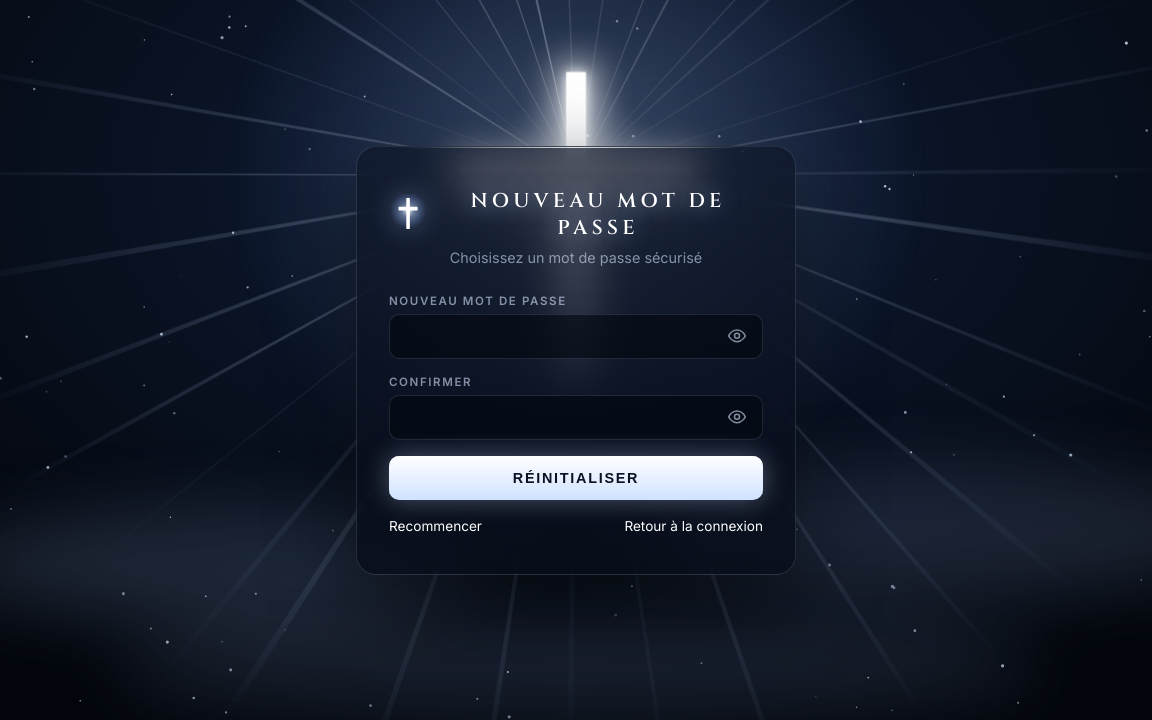
it: ResetPassword › affiche l’erreur du serveur (jeton expiré) et ne redirige pas
Type "NouveauMdp456" into the password field labelled "Nouveau mot de passe".
click(576, 336); type("NouveauMdp456")  # box x1=389 y1=314 x2=763 y2=358
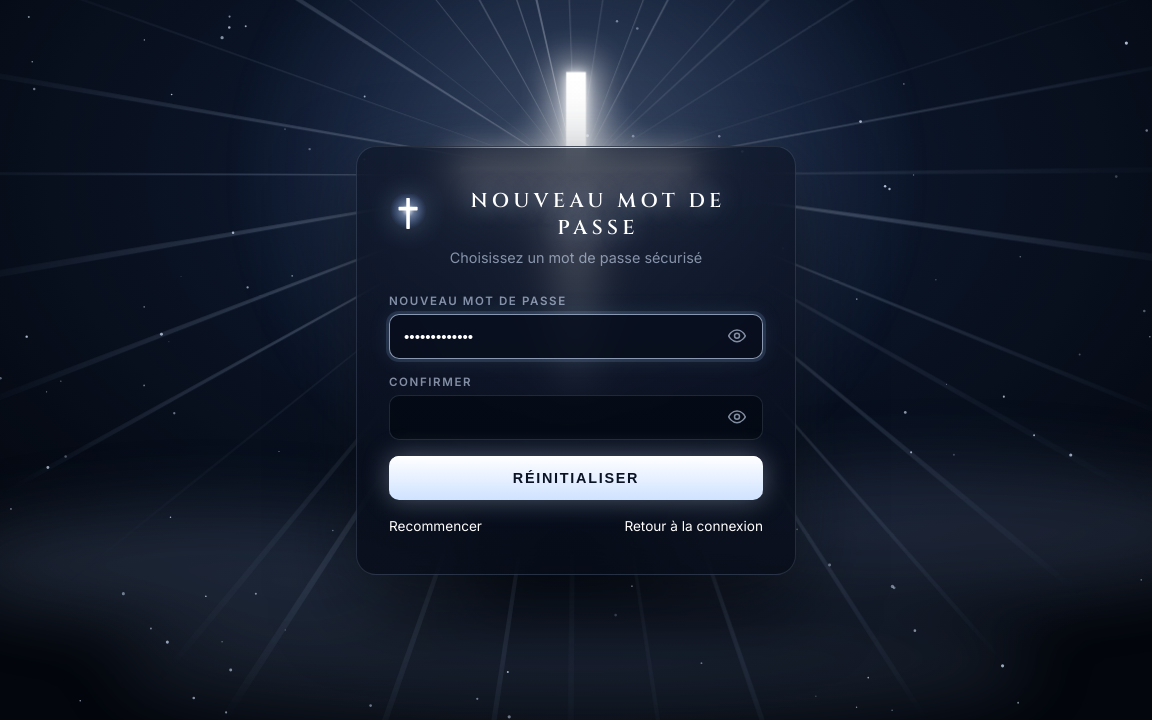
Type "NouveauMdp456" into the password field labelled "Confirmer".
click(576, 417); type("NouveauMdp456")  # box x1=389 y1=394 x2=763 y2=440
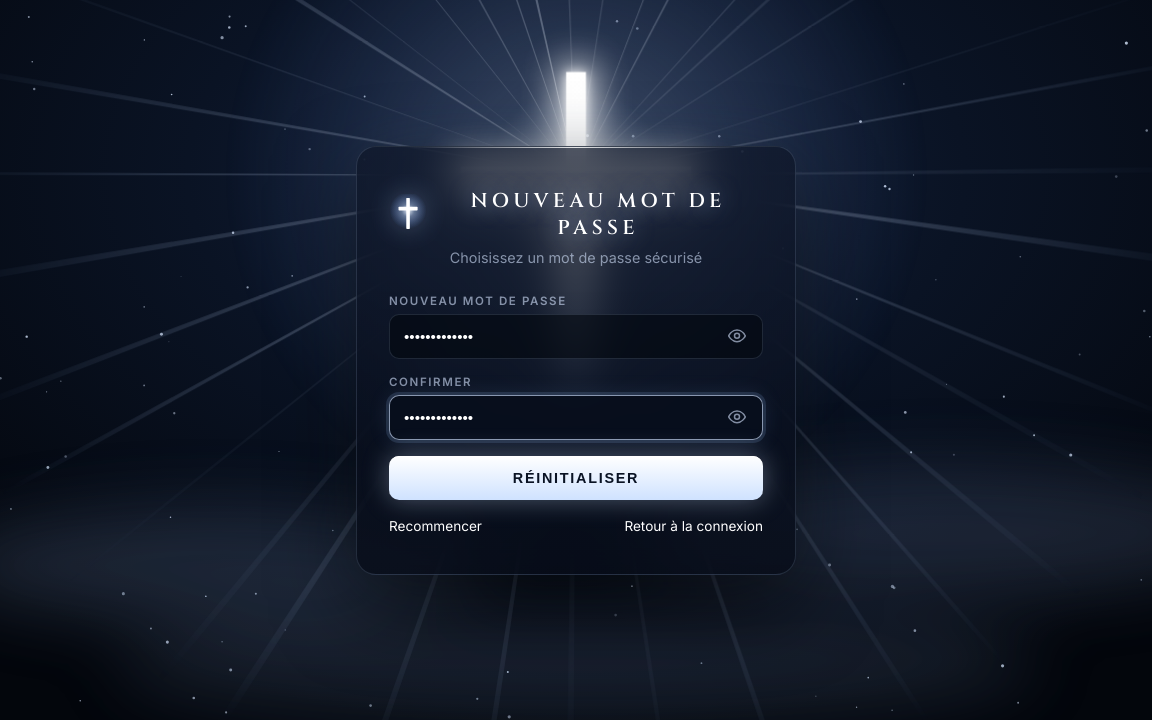
Click the button "Réinitialiser".
click(576, 478)  # box x1=389 y1=456 x2=763 y2=500
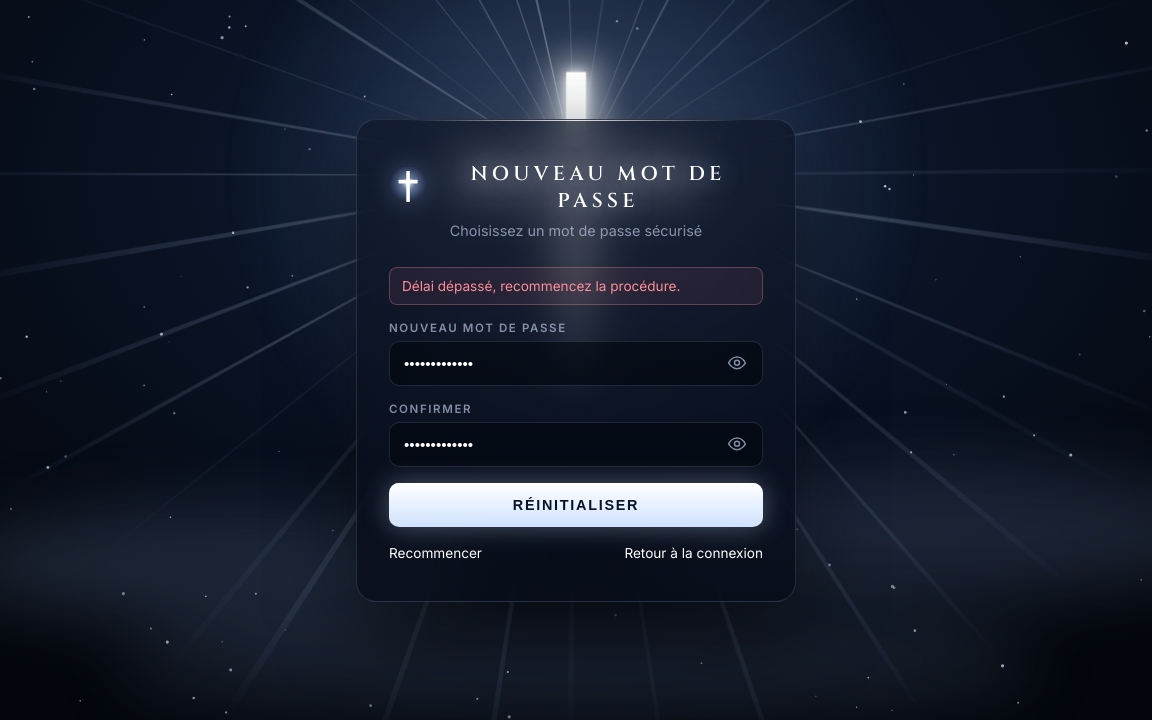
Result: the text "Délai dépassé, recommencez la procédure." is shown at x1=389 y1=266 x2=763 y2=304
